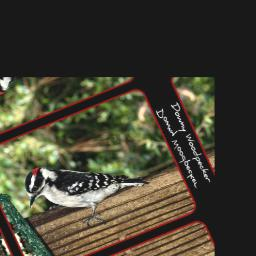Woodpecker: (15, 132, 159, 250)
